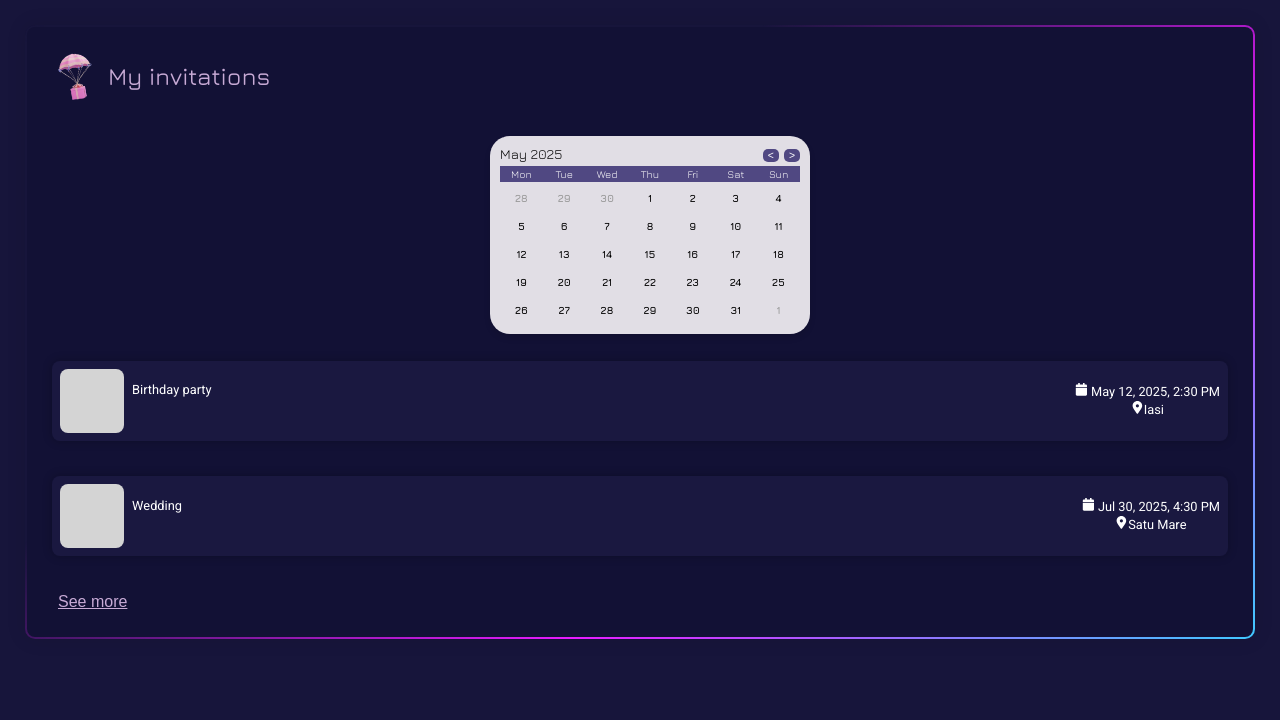
it: UpcomingEventsSection › closes the modal when the close button is clicked
Step 1. Click the button "See more" → (93, 602), box 52,592 -> 133,612
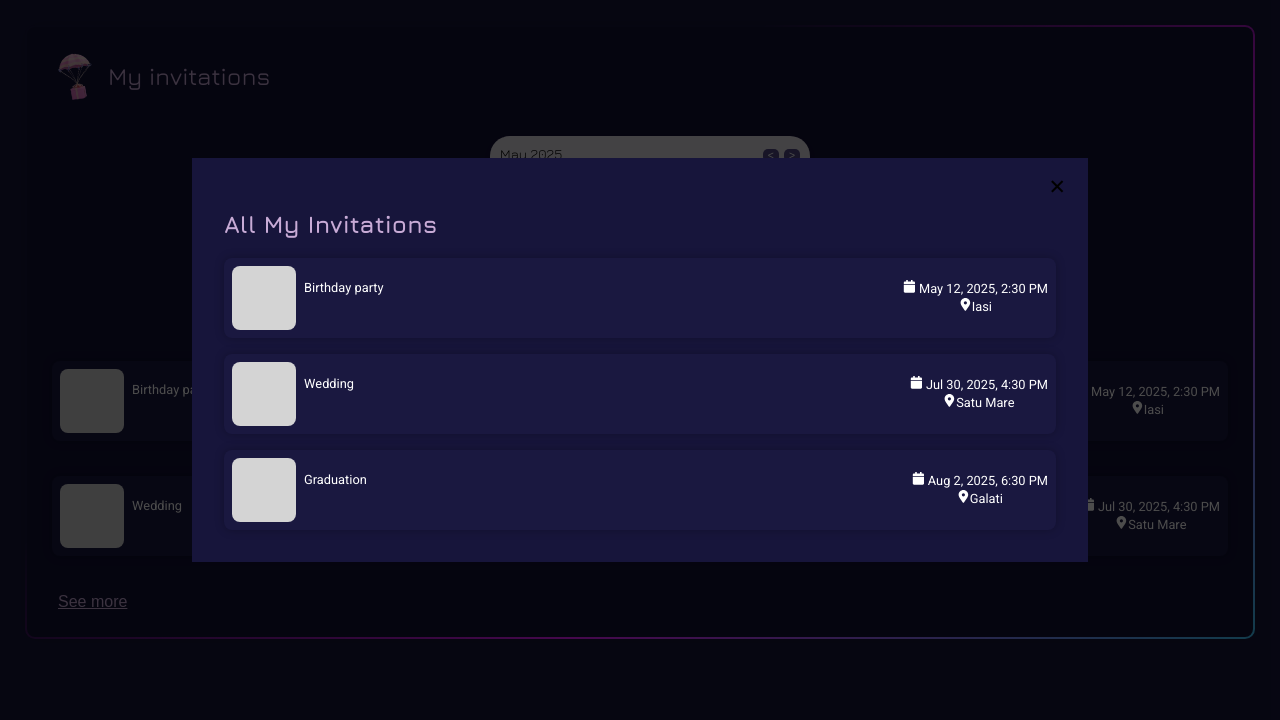
Check: the heading "All My Invitations" is shown, box 224,210 -> 438,238
Step 2. Click the button "✕" → (1057, 187), box 1043,174 -> 1072,200
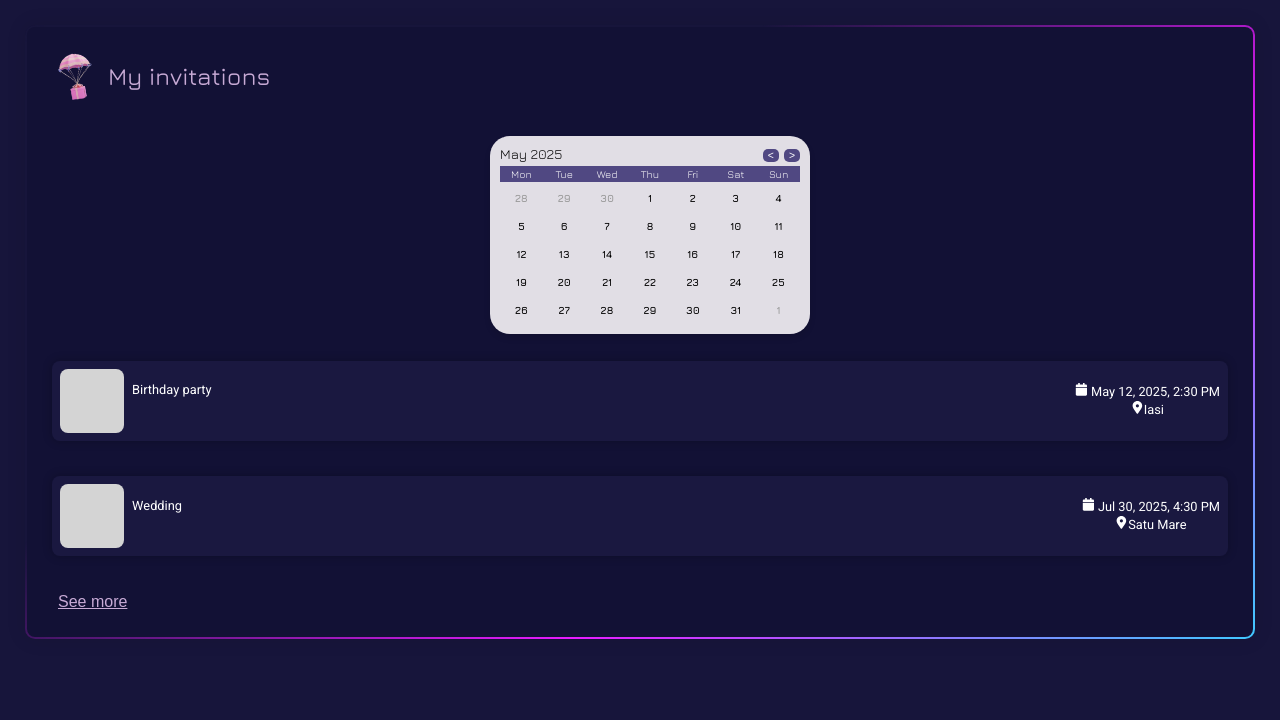
Check: the heading "All My Invitations" is gone
